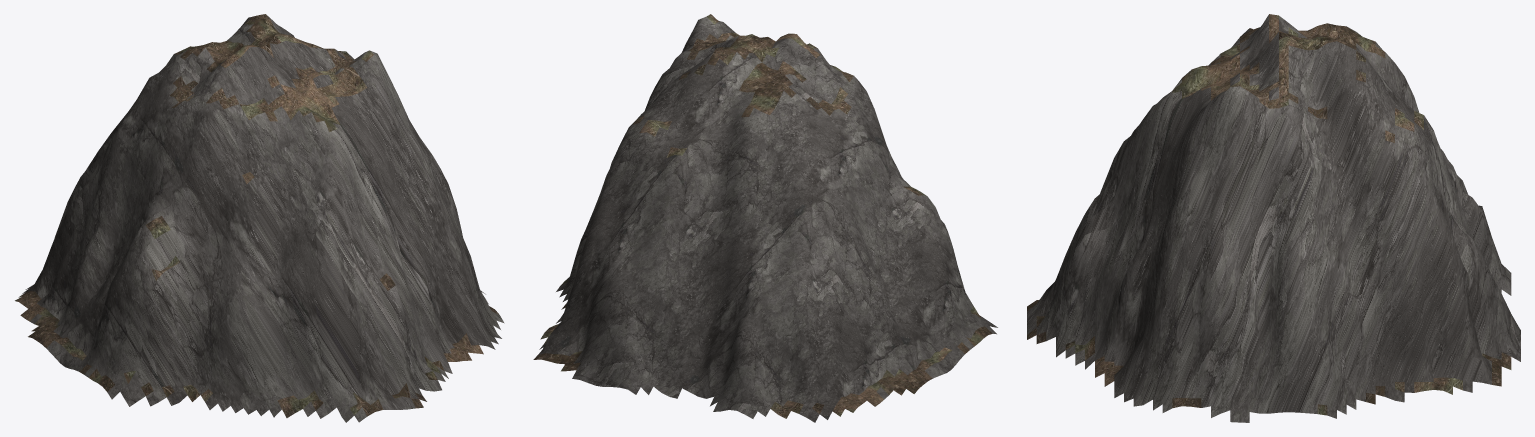
File: border_shelf_b_v5_autumn.glb
3 renders of one model, left to right at view 1: azimuth 30°, elevation 25°; view 2: azimuth 150°, elevation 25°; view 3: azimuth 270°, elevation 25°, orthographic. The views are drawn at different scales.
Parts seen in each view (by area): view 1: border_shelf_b; view 2: border_shelf_b; view 3: border_shelf_b.
Part boxes in pixels (x1,y1,x2,y2): border_shelf_b: [15, 14, 504, 422]; border_shelf_b: [533, 14, 997, 422]; border_shelf_b: [1027, 14, 1520, 422].
Size of the model in its own units: 0.9796 by 0.694 by 1.04.
2 materials, 2 textured.
